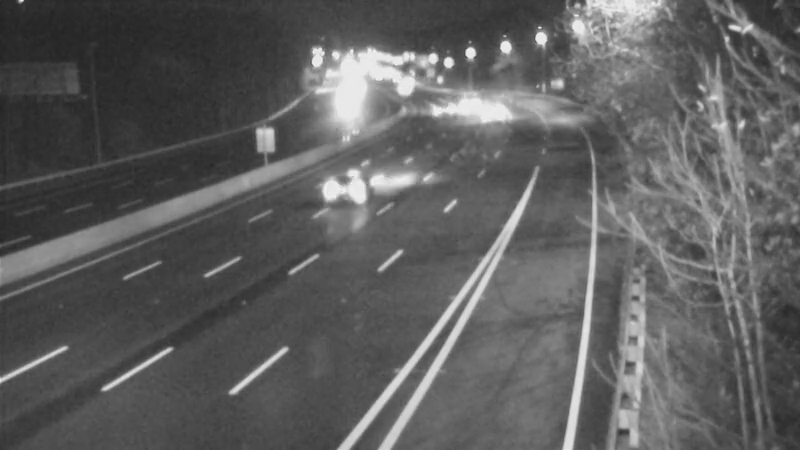vehicle: (311, 153, 391, 233), (376, 61, 426, 111), (444, 73, 494, 123), (414, 86, 464, 136), (468, 91, 518, 141)
